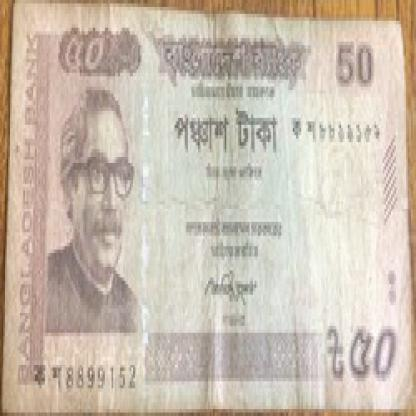Fifty taka: (53, 24, 113, 87)
